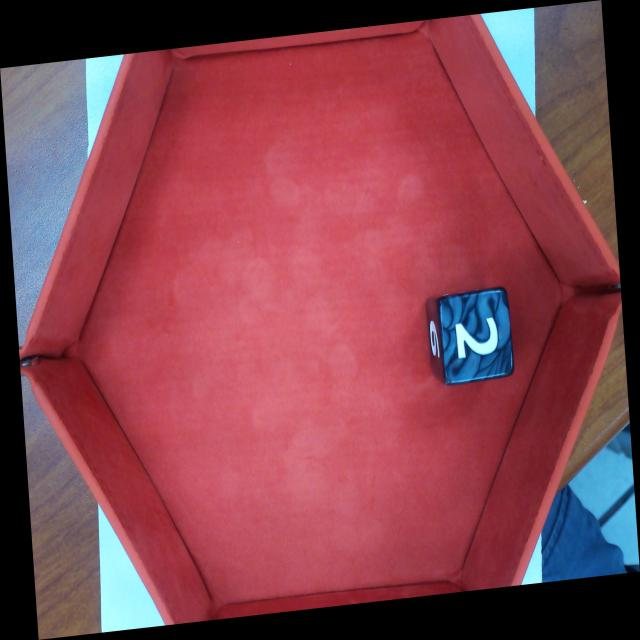dice: (444, 296, 509, 381)
